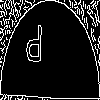P: (25, 24, 43, 72)
